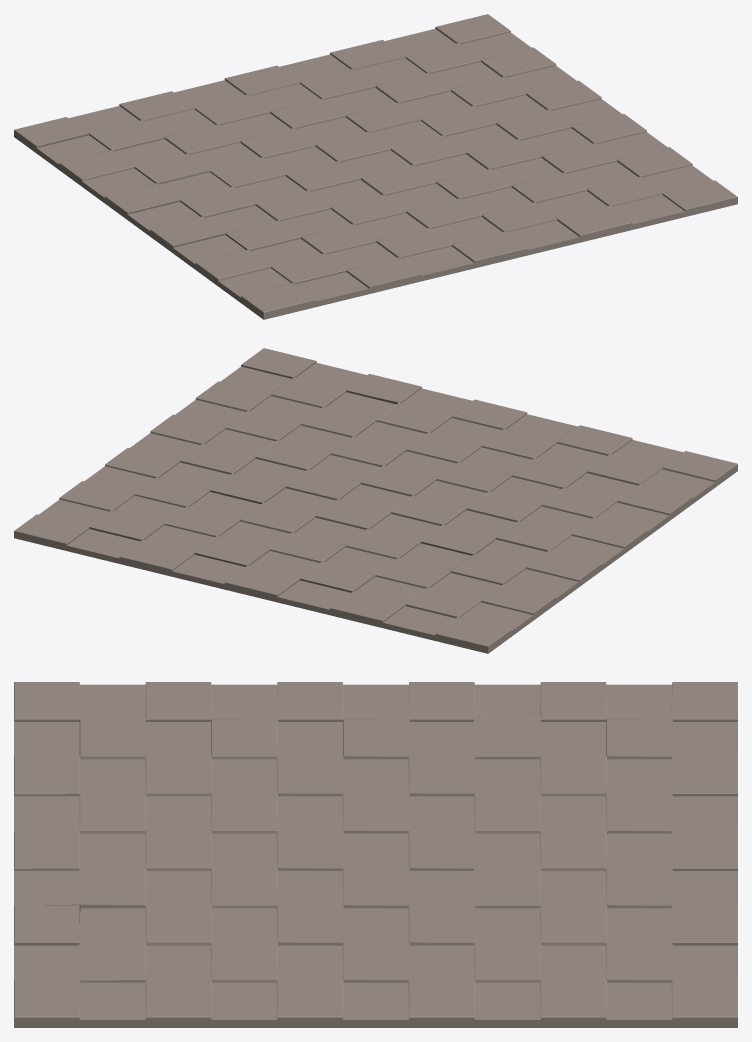
File: floor_6.glb
3 views of the same model, one above another, from view 1: azimuth 30°, elevation 25°; view 2: azimuth 150°, elevation 25°; view 3: azimuth 270°, elevation 25° (orthographic). The views are drawn at different scales.
Parts seen in each view (by area): view 1: floor_6; view 2: floor_6; view 3: floor_6.
Part boxes in pixels (x1=…): floor_6: x1=14, y1=14, x2=737, y2=319; floor_6: x1=14, y1=348, x2=737, y2=653; floor_6: x1=14, y1=682, x2=737, y2=1027.
Bounding box in the file's own units: 1.53 × 0.0245 × 1.4.
1 material, 1 textured.
